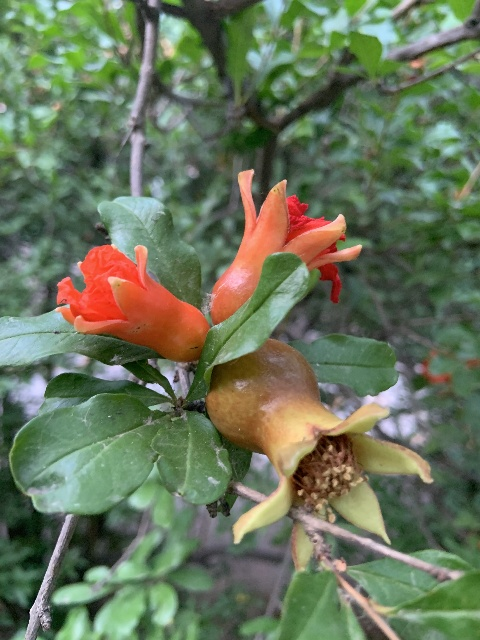early-fruit: (205, 337, 434, 567)
flower: (211, 167, 362, 322), (54, 243, 207, 362)
